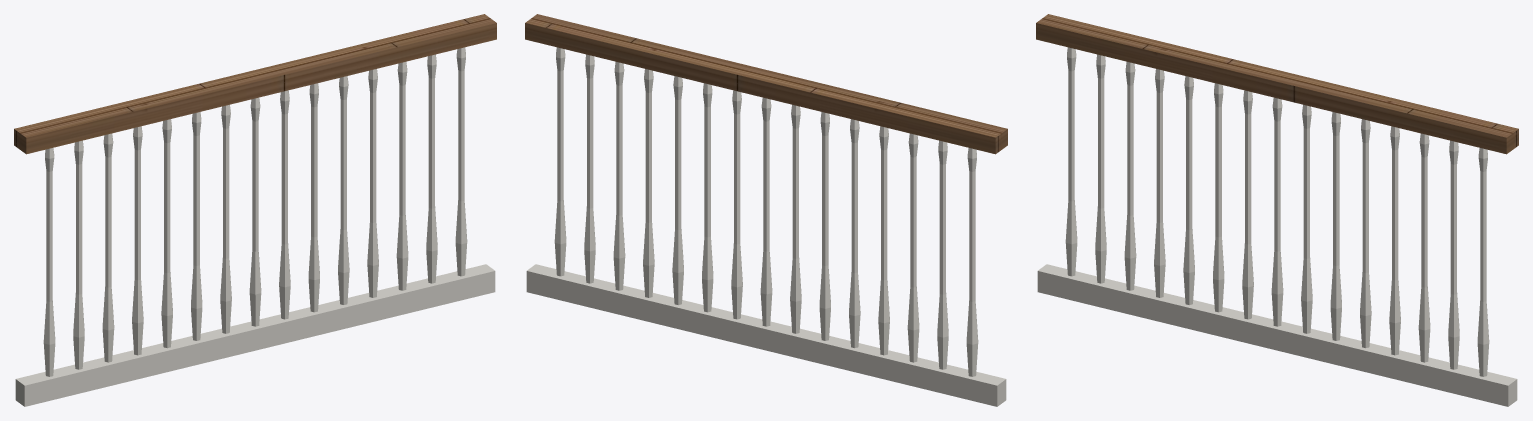
Rendered from rail_178.glb.
3 renders of one model, left to right at view 1: azimuth 30°, elevation 25°; view 2: azimuth 150°, elevation 25°; view 3: azimuth 330°, elevation 25°, orthographic.
Visible parts, largest first — view 1: rail_178_trim, rail_178_deck; view 2: rail_178_trim, rail_178_deck; view 3: rail_178_trim, rail_178_deck.
Boxes of the visible parts, x1=… form: rail_178_trim: x1=15, y1=47, x2=495, y2=406; rail_178_deck: x1=14, y1=14, x2=496, y2=154; rail_178_trim: x1=526, y1=47, x2=1006, y2=406; rail_178_deck: x1=525, y1=14, x2=1007, y2=154; rail_178_trim: x1=1037, y1=47, x2=1517, y2=406; rail_178_deck: x1=1036, y1=14, x2=1518, y2=154.
Size of the model in its own units: 1.78 by 0.977 by 0.08.
Materials: 2 (1 with a texture image).
